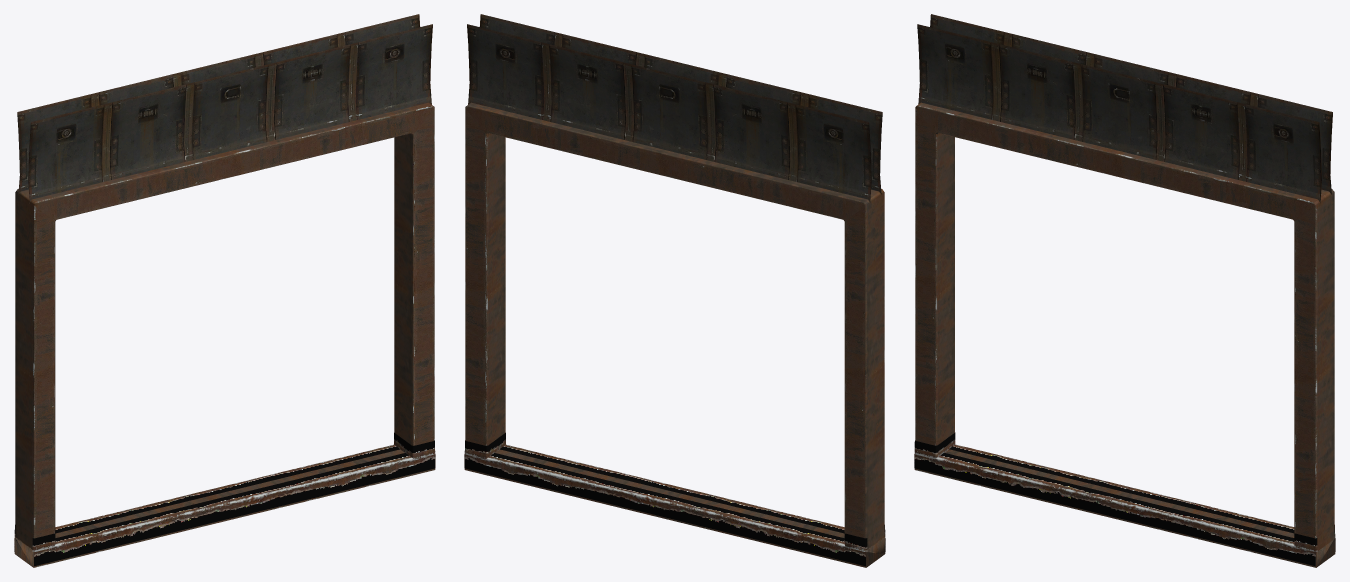
Rendered from armored_double_door.gltf.
3 views of the same model, side by side, from view 1: azimuth 30°, elevation 25°; view 2: azimuth 150°, elevation 25°; view 3: azimuth 330°, elevation 25° (orthographic).
Parts seen in each view (by area): view 1: Collection.smd; view 2: Collection.smd; view 3: Collection.smd.
Boxes of the visible parts, x1,y1,x2,y2 form: Collection.smd: [14, 14, 435, 567]; Collection.smd: [464, 14, 885, 567]; Collection.smd: [914, 14, 1335, 567].
Size of the model in its own units: 2.22 by 2.34 by 0.1861.
1 material, 1 textured.
